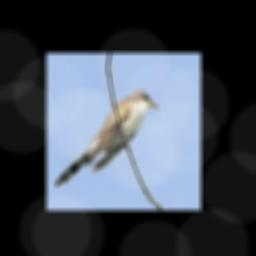Cuckoo: (55, 90, 158, 186)
